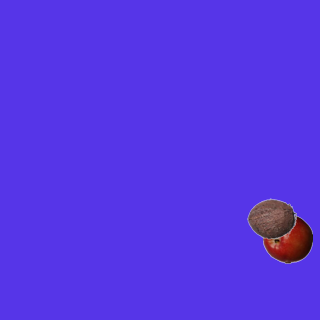Apple Braeburn: (262, 213, 312, 263)
Cocos: (246, 193, 296, 243)
